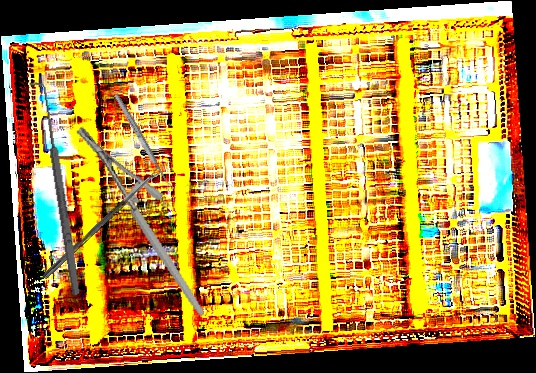Hook Surgical: (28, 78, 84, 299)
Needle Holder: (74, 107, 205, 335)
Surgical Spoon: (41, 166, 164, 281), (112, 92, 175, 193)
